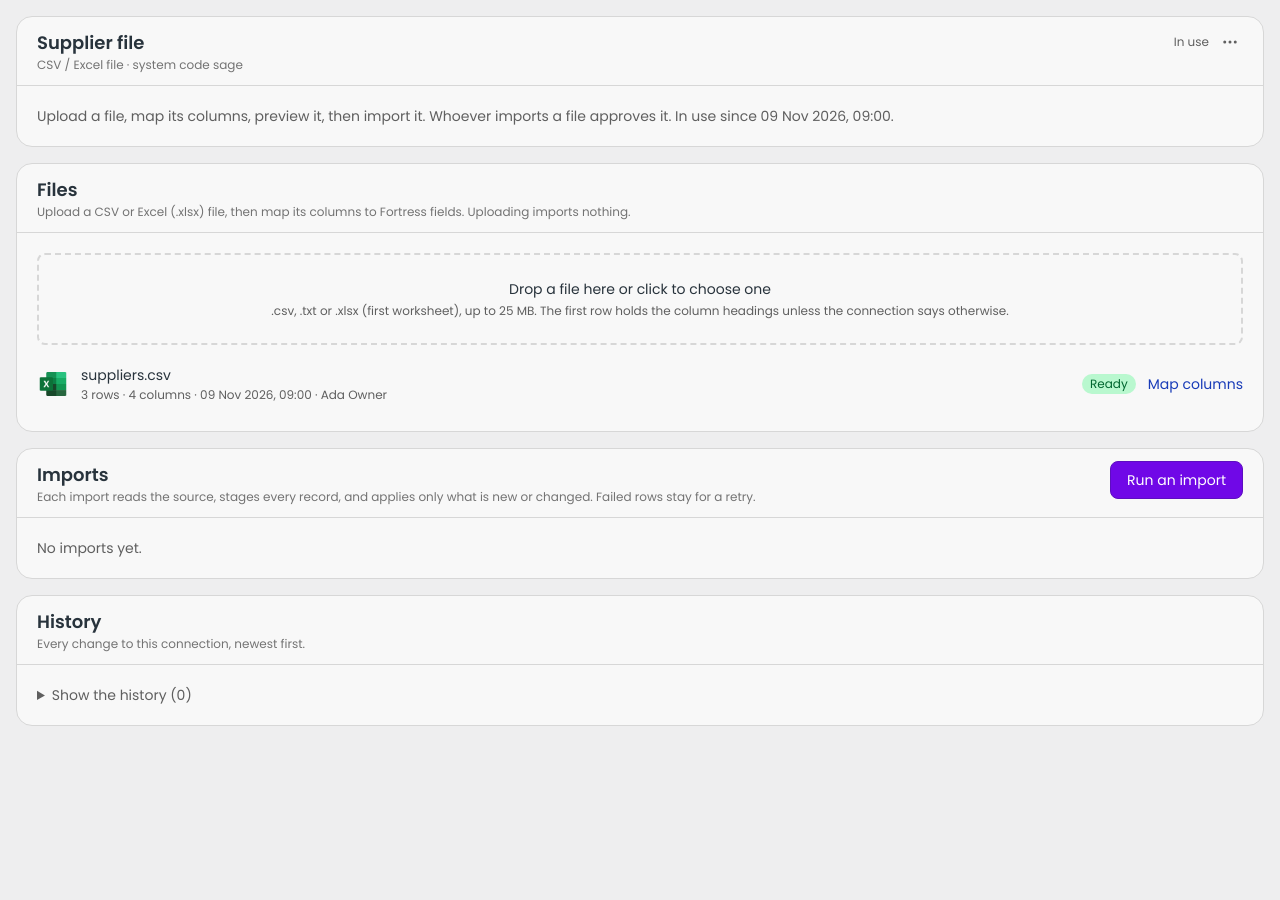
it: file connection page › previews a file once it is mapped; a full import waits for an importer
Click the button "Run an import".
click(1176, 480)  # box [1110,461,1243,499]
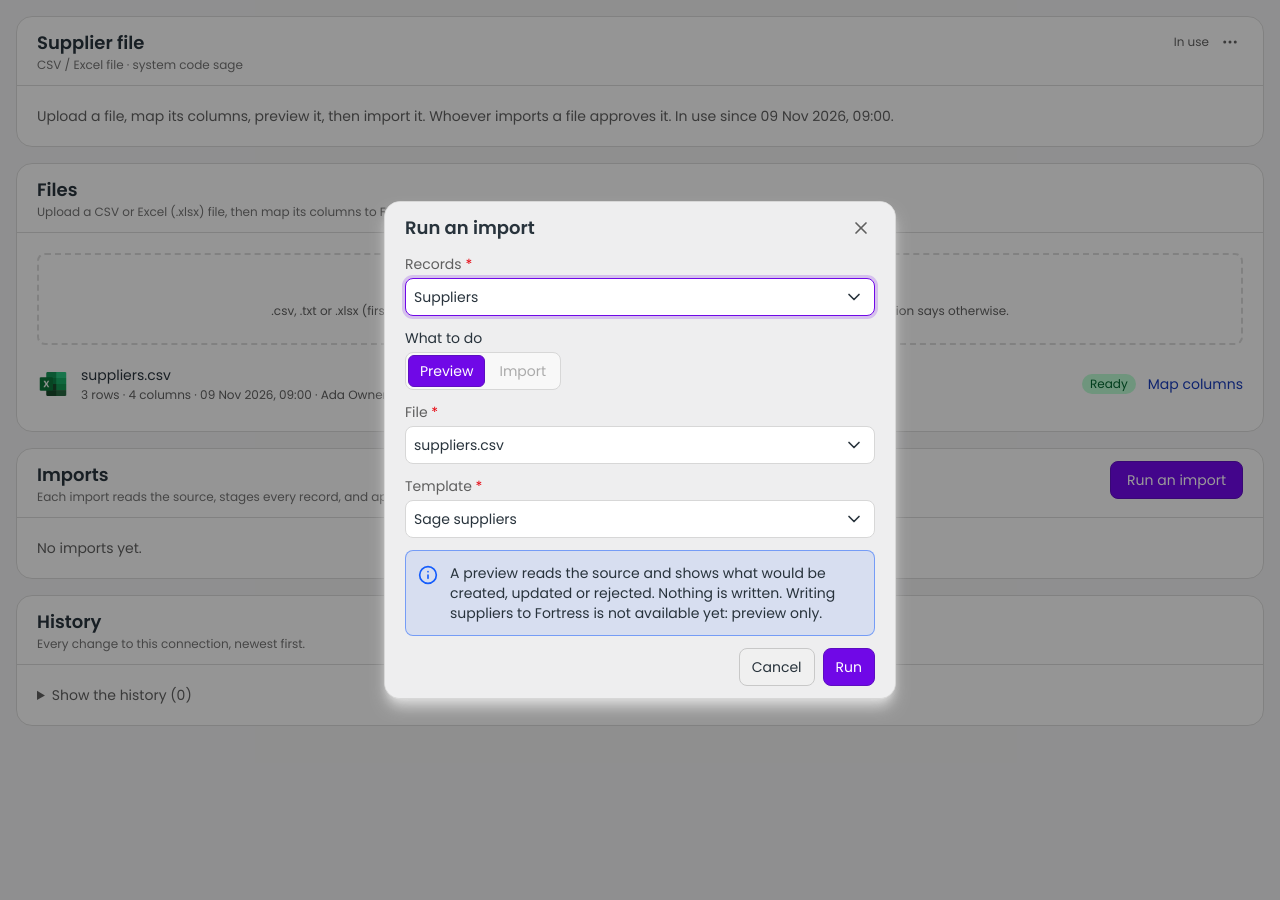
Result: the button "Import" is disabled at [488,355,558,387]
Result: the text "not available yet: preview only" is shown at [450,583,835,623]
Result: the button "Run" is enabled
Click the button "Run".
click(849, 667)  # box [823,648,875,686]
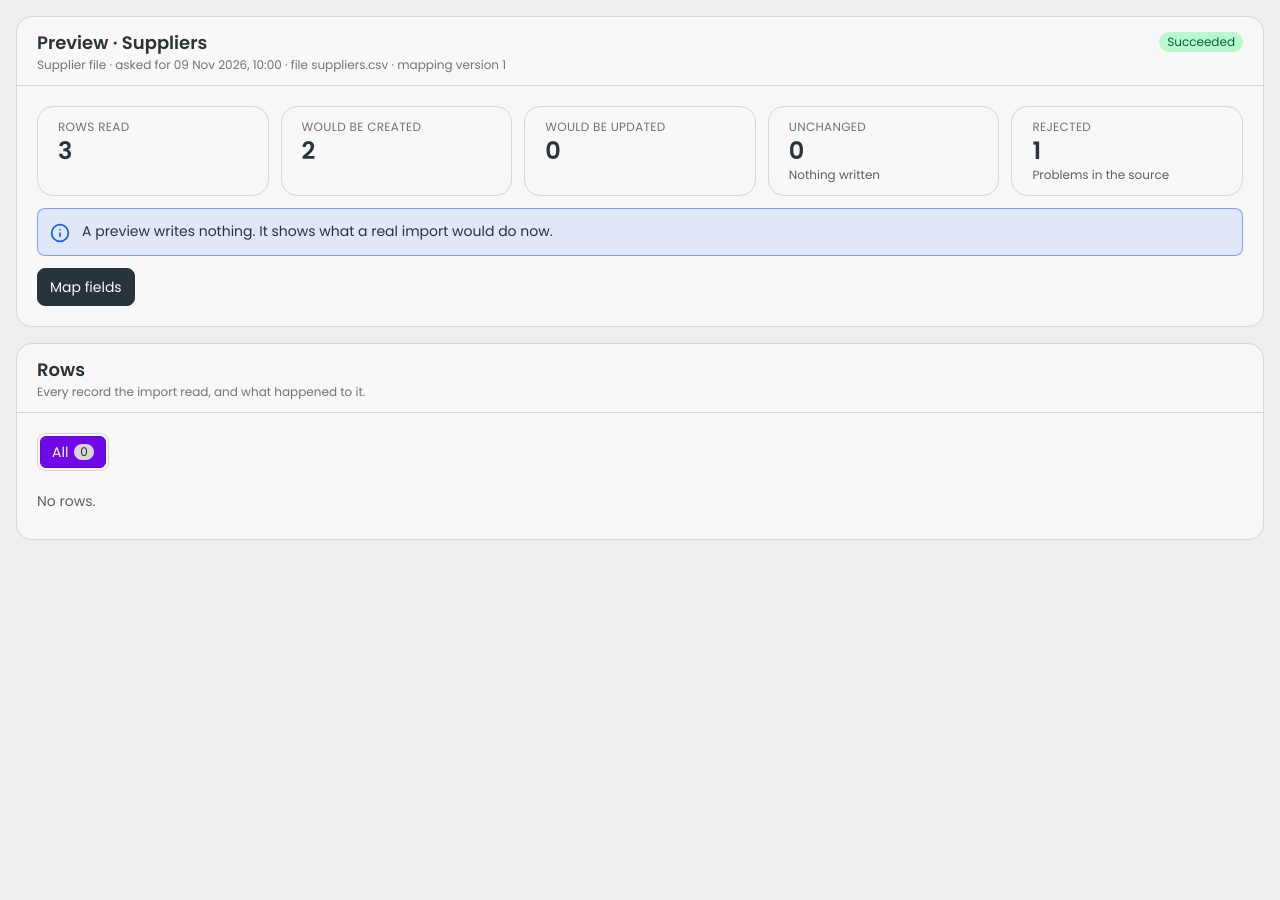
Result: the text "file suppliers.csv · mapping version 1" is shown at [37,56,506,73]
